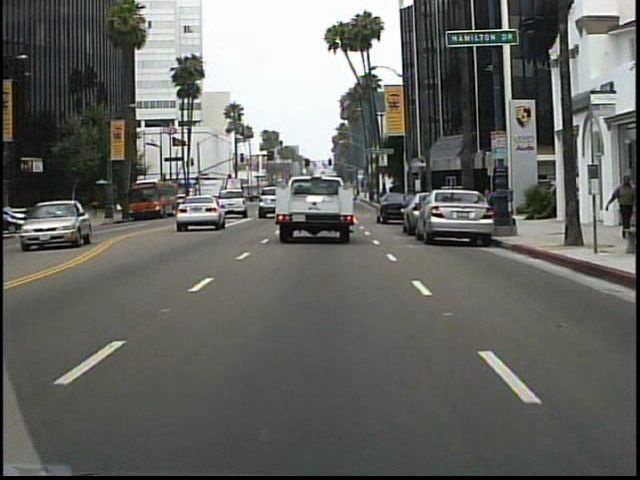person: (601, 173, 637, 240), (90, 195, 105, 224)
